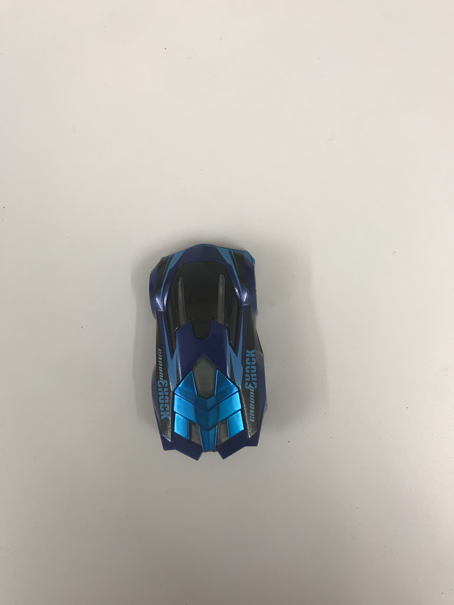Shock: (147, 243, 268, 461)
